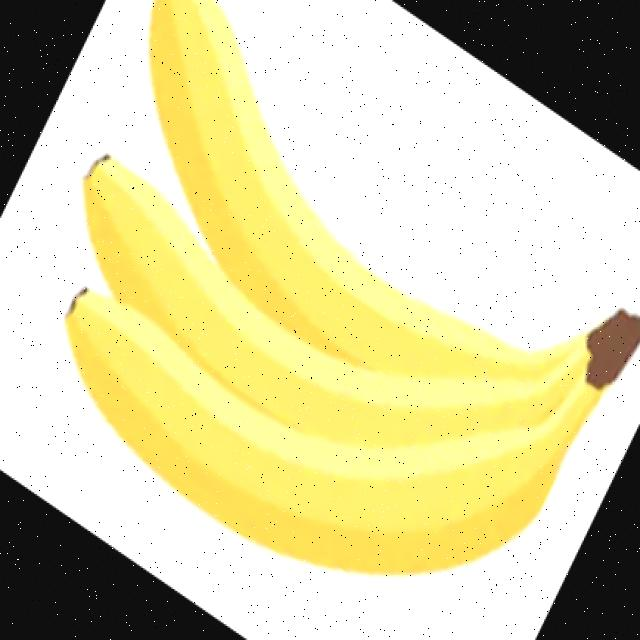god quality banana: (65, 2, 602, 574)
